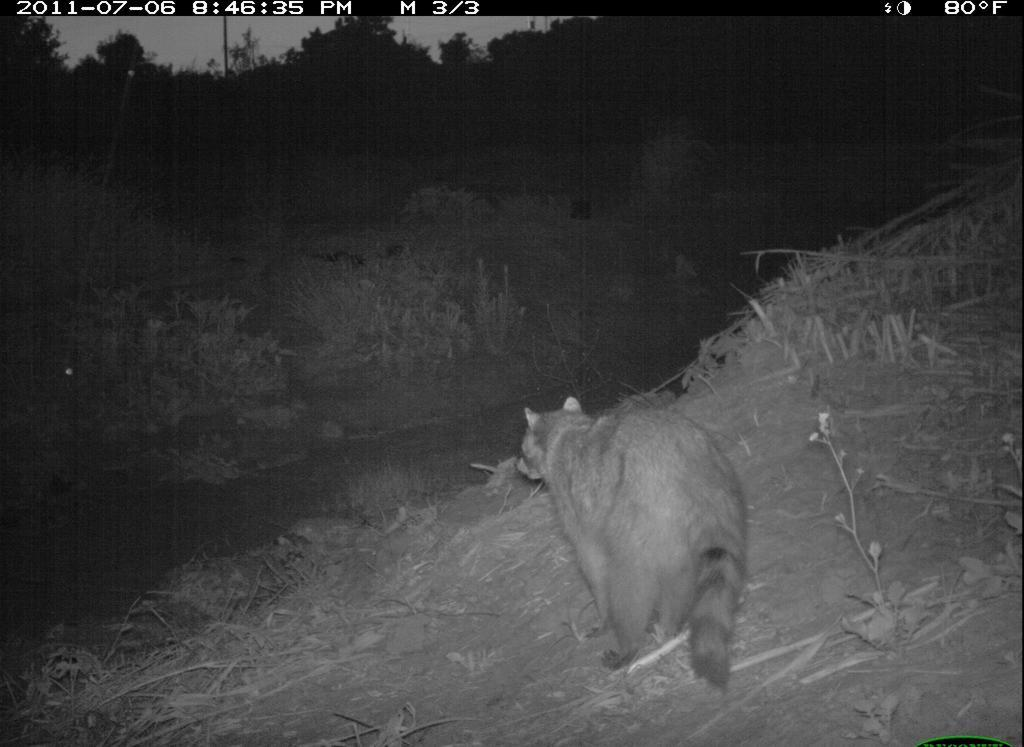raccoon: (510, 393, 758, 705)
